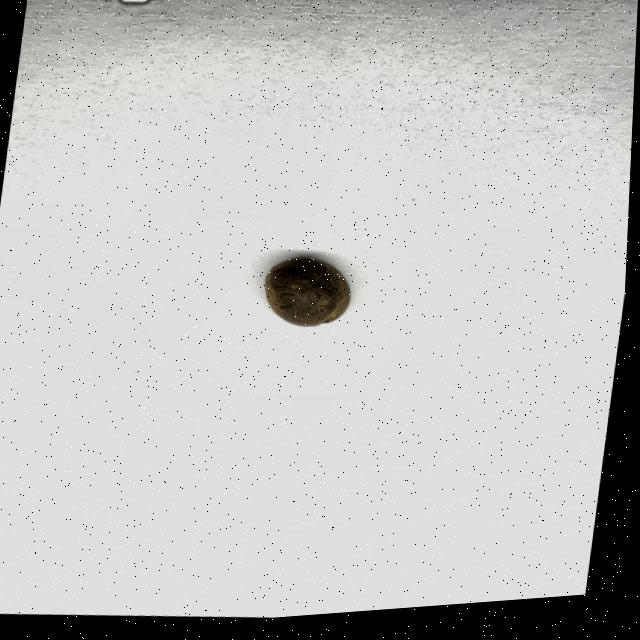Black: (261, 259, 360, 334)
